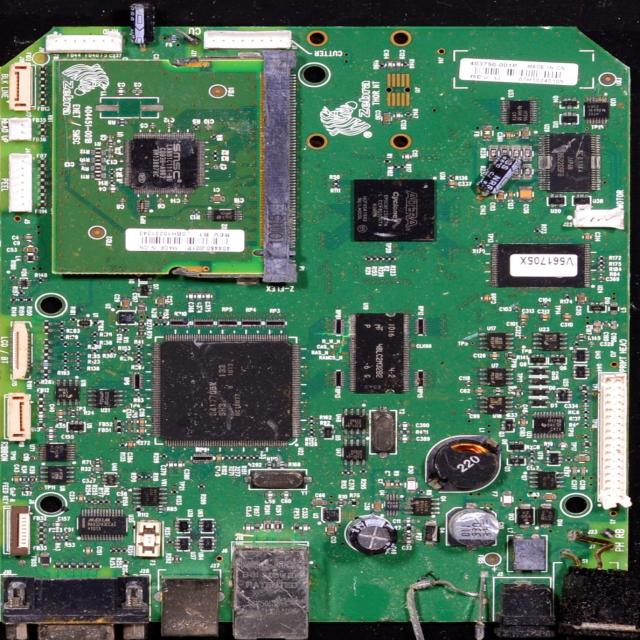Capacitor Jumper: (520, 186, 532, 204), (542, 493, 558, 500), (326, 523, 334, 536), (208, 196, 225, 202), (594, 320, 601, 334), (522, 127, 530, 139), (577, 293, 585, 305), (374, 500, 381, 512), (474, 388, 488, 394), (516, 314, 528, 320), (575, 457, 589, 462), (488, 353, 501, 358), (562, 314, 571, 321), (384, 480, 390, 490), (498, 191, 504, 201), (584, 232, 590, 241), (484, 292, 489, 302), (540, 314, 550, 319), (504, 132, 511, 139), (522, 418, 526, 430), (508, 191, 514, 199), (217, 454, 222, 462), (85, 547, 90, 555), (79, 493, 82, 504), (14, 475, 18, 483)
Connector: (599, 373, 630, 508), (46, 34, 122, 54), (206, 32, 296, 47), (4, 395, 32, 440), (9, 64, 32, 113), (12, 321, 30, 380)
IC: (153, 334, 300, 447), (352, 180, 438, 242), (125, 134, 204, 194), (349, 314, 409, 393), (490, 242, 588, 288), (537, 134, 602, 191), (74, 508, 128, 540), (534, 410, 566, 439), (502, 100, 536, 125), (40, 465, 76, 485), (54, 379, 80, 406), (478, 397, 515, 415), (132, 488, 167, 507), (88, 389, 122, 408), (343, 439, 367, 464), (342, 408, 365, 434), (534, 332, 566, 350), (479, 333, 515, 349), (480, 368, 512, 385), (40, 445, 75, 460), (204, 210, 245, 220), (385, 494, 401, 517), (117, 310, 138, 325), (322, 506, 340, 523), (101, 472, 120, 486), (572, 348, 590, 362), (547, 451, 562, 466), (176, 518, 190, 534), (574, 365, 590, 379), (199, 537, 213, 552), (200, 520, 212, 534)
Resistor Jumper: (90, 165, 107, 171), (91, 173, 110, 178), (90, 158, 107, 163), (90, 150, 106, 154), (91, 459, 102, 464), (92, 467, 103, 471)
Transistor: (404, 498, 438, 516), (530, 471, 562, 490), (560, 114, 578, 125), (502, 419, 515, 434), (550, 353, 566, 365), (528, 354, 546, 364), (561, 97, 577, 108), (508, 455, 527, 464)
iC: (585, 98, 609, 124), (174, 538, 190, 552)
